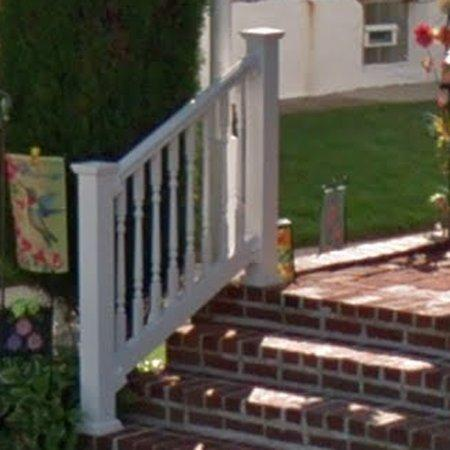stairs: (89, 241, 450, 450)
